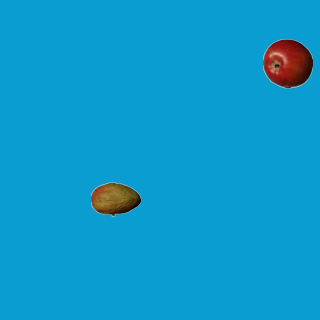Apple Braeburn: (262, 38, 312, 88)
Papaya: (90, 174, 140, 224)
